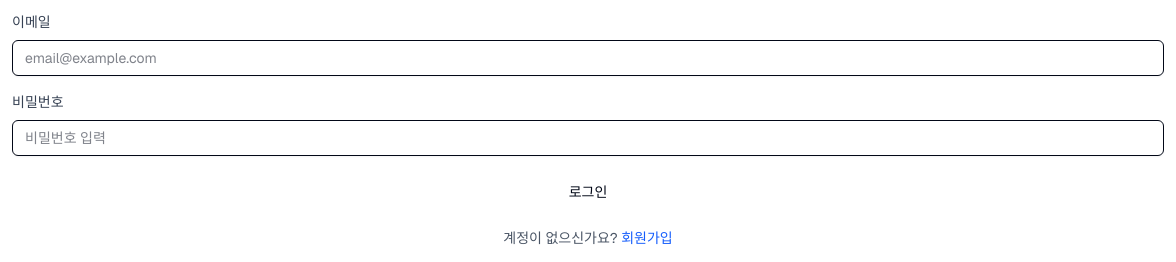
Test: LoginForm › 로그인 실패 › 로딩 중에는 버튼이 비활성화된다
Type "test@example.com" into the field labelled "이메일" at (588, 58), box 12,40 -> 1164,76
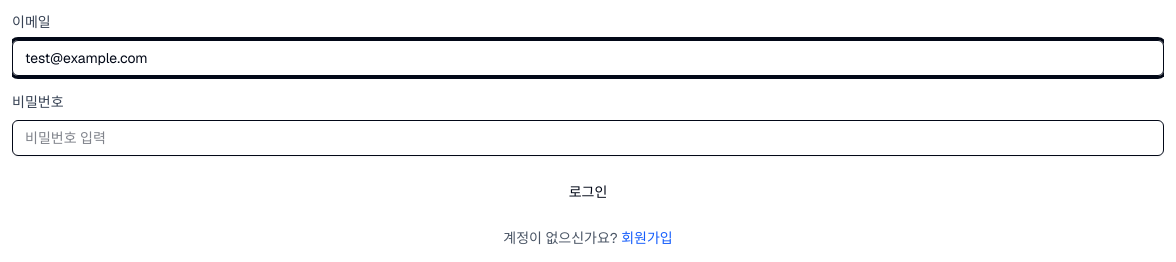
Type "password123" into the password field labelled "비밀번호" at (588, 138), box 12,120 -> 1164,156
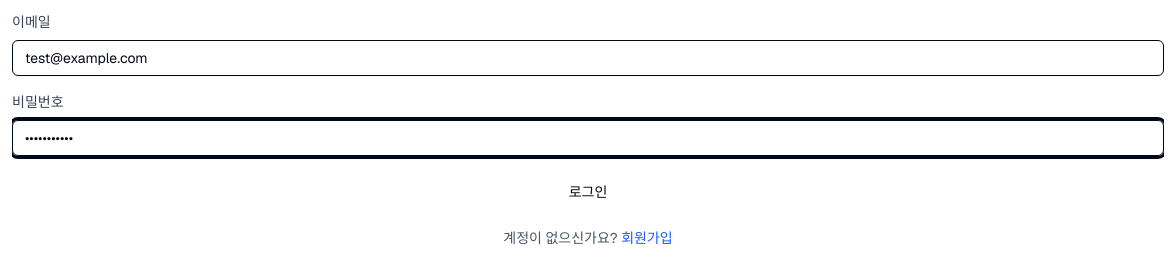
Click the button "로그인" at (588, 192), box 12,172 -> 1164,212
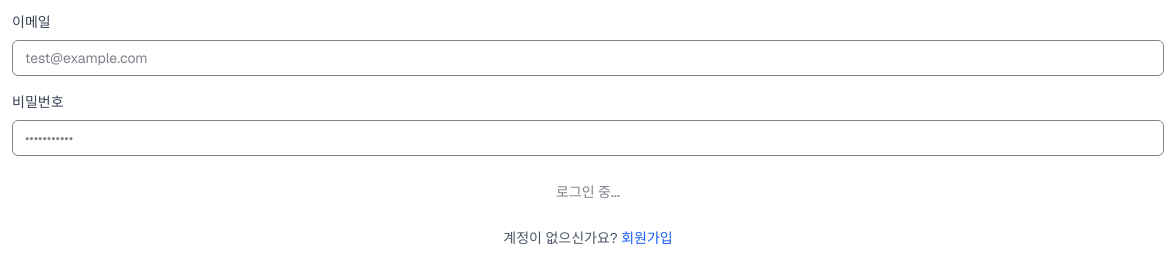
Result: the button "로그인 중..." is disabled at 12,172 -> 1164,212
